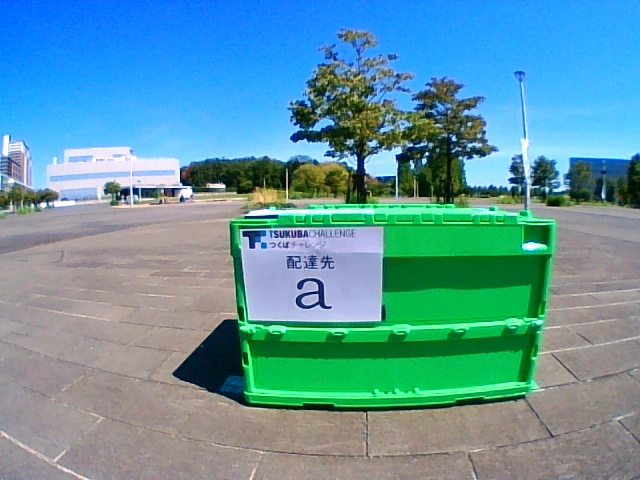green_box: (229, 203, 556, 407)
tag_a: (249, 230, 382, 322)
